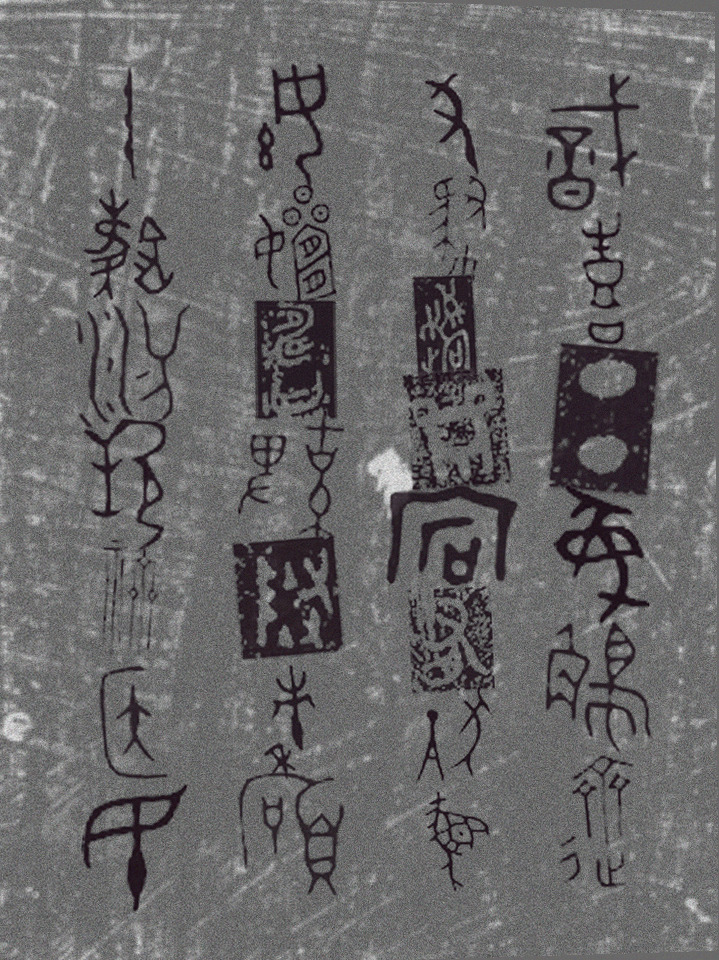char: (545, 338, 663, 499), (228, 532, 349, 665), (542, 617, 655, 757), (75, 295, 191, 431), (381, 481, 521, 592), (541, 68, 645, 216), (399, 364, 515, 495), (550, 482, 653, 629), (237, 407, 347, 543), (79, 782, 190, 916), (236, 768, 347, 901), (82, 415, 170, 553), (251, 295, 341, 424), (557, 751, 639, 892), (81, 185, 177, 305), (252, 181, 338, 311), (407, 583, 498, 697), (254, 59, 329, 194), (96, 663, 171, 785), (414, 685, 495, 787), (410, 271, 480, 386), (100, 537, 161, 667), (576, 207, 629, 350), (424, 788, 492, 895), (426, 172, 490, 285), (261, 661, 320, 782), (423, 70, 481, 178), (120, 64, 140, 184)
